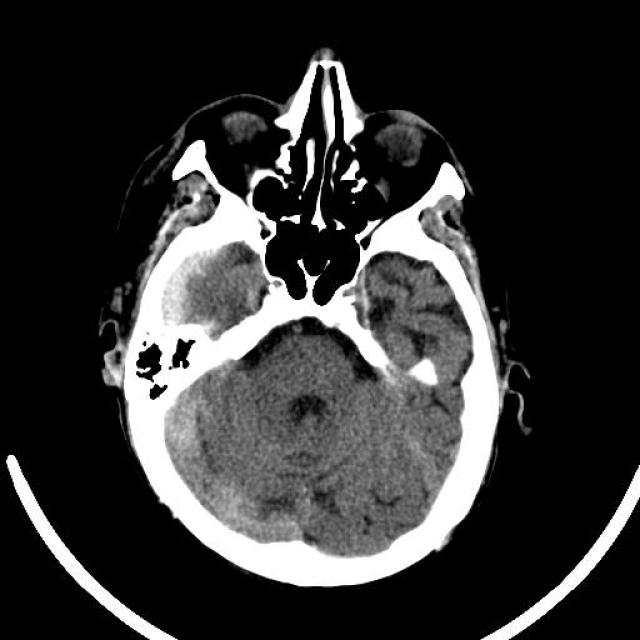Subdural: (130, 234, 228, 338)
